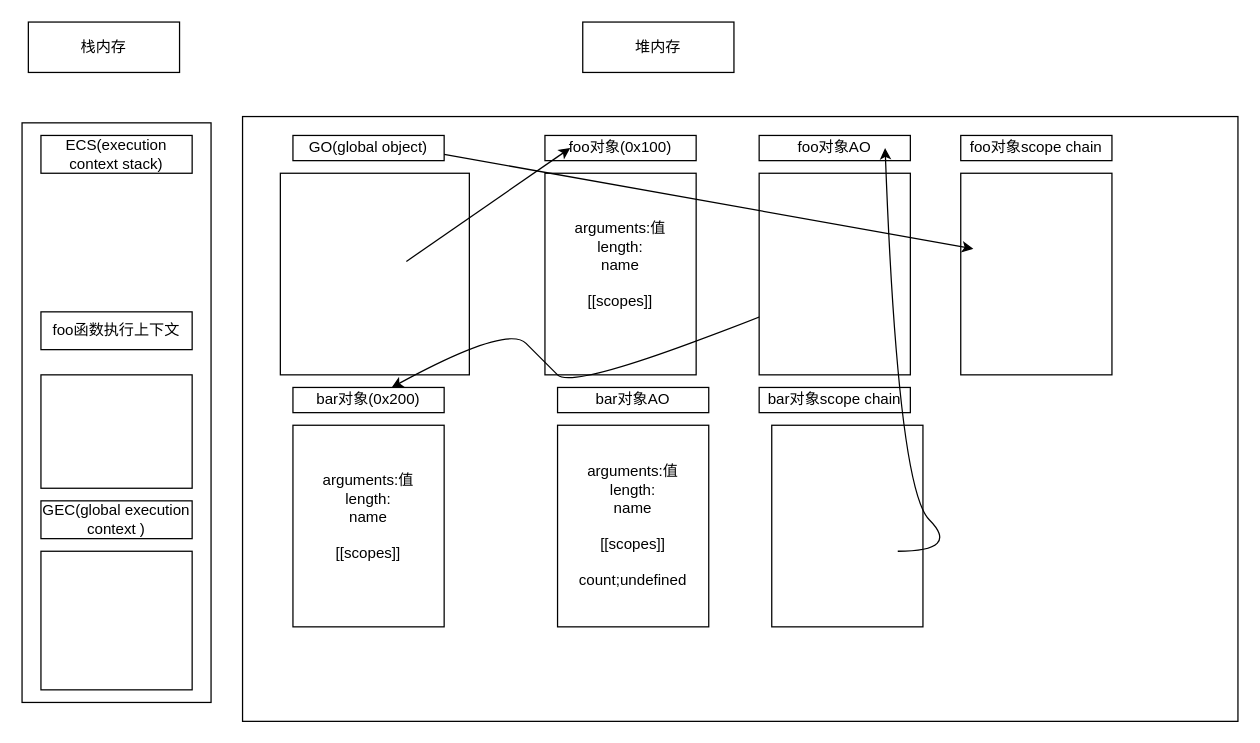
Some shapes in this 1260 by 743 pixel diagram are drawn without their labels. Each missing label, with the box of its shape:
0: foo对象AO 1: global: (770, 424, 923, 627)
0: global: (959, 172, 1112, 375)
message:global message foo:0x100 b:undefined res:undefined: (279, 172, 469, 375)
num:10 bar:0x200: (758, 172, 910, 375)
VO = AO: (40, 374, 192, 488)
VO = GO var b = foo(10): (40, 550, 192, 690)
